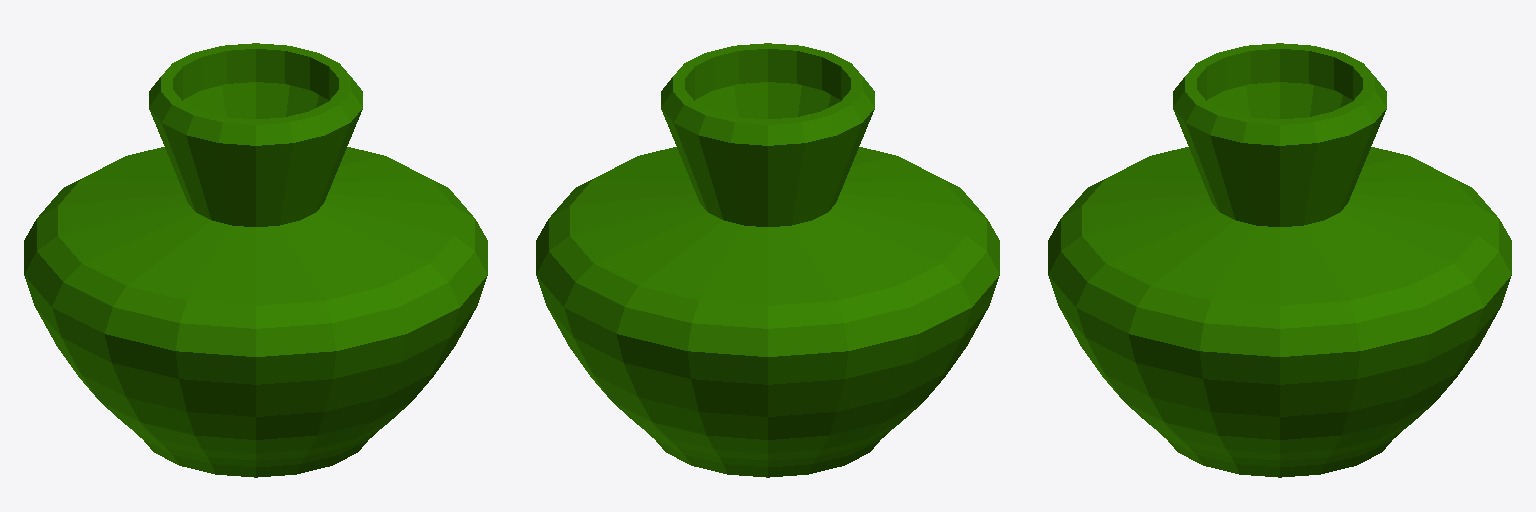
Rendered from Jarron.obj.
The picture shows the model from 3 angles: view 1: azimuth 30°, elevation 25°; view 2: azimuth 150°, elevation 25°; view 3: azimuth 270°, elevation 25°; orthographic projection.
Visible parts, largest first — view 1: Cylinder007; view 2: Cylinder007; view 3: Cylinder007.
Part boxes in pixels (bbox=[...]): Cylinder007: bbox=[24, 43, 487, 477]; Cylinder007: bbox=[536, 43, 999, 477]; Cylinder007: bbox=[1048, 43, 1511, 477].
Size of the model in its own units: 19.79 by 15.94 by 19.49.